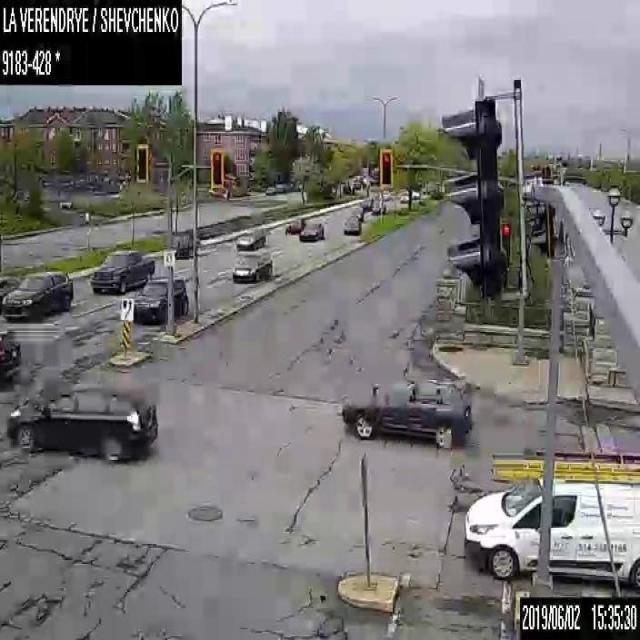vehicle: (463, 444, 639, 589), (7, 384, 159, 462), (341, 371, 473, 448), (0, 268, 73, 321), (89, 247, 154, 293), (133, 274, 187, 324), (232, 248, 272, 282), (0, 324, 21, 381), (236, 225, 265, 250), (299, 221, 323, 241), (342, 214, 361, 233), (285, 216, 306, 233), (347, 204, 362, 222), (361, 196, 373, 210), (266, 185, 276, 194), (400, 191, 408, 201), (412, 189, 419, 199)
